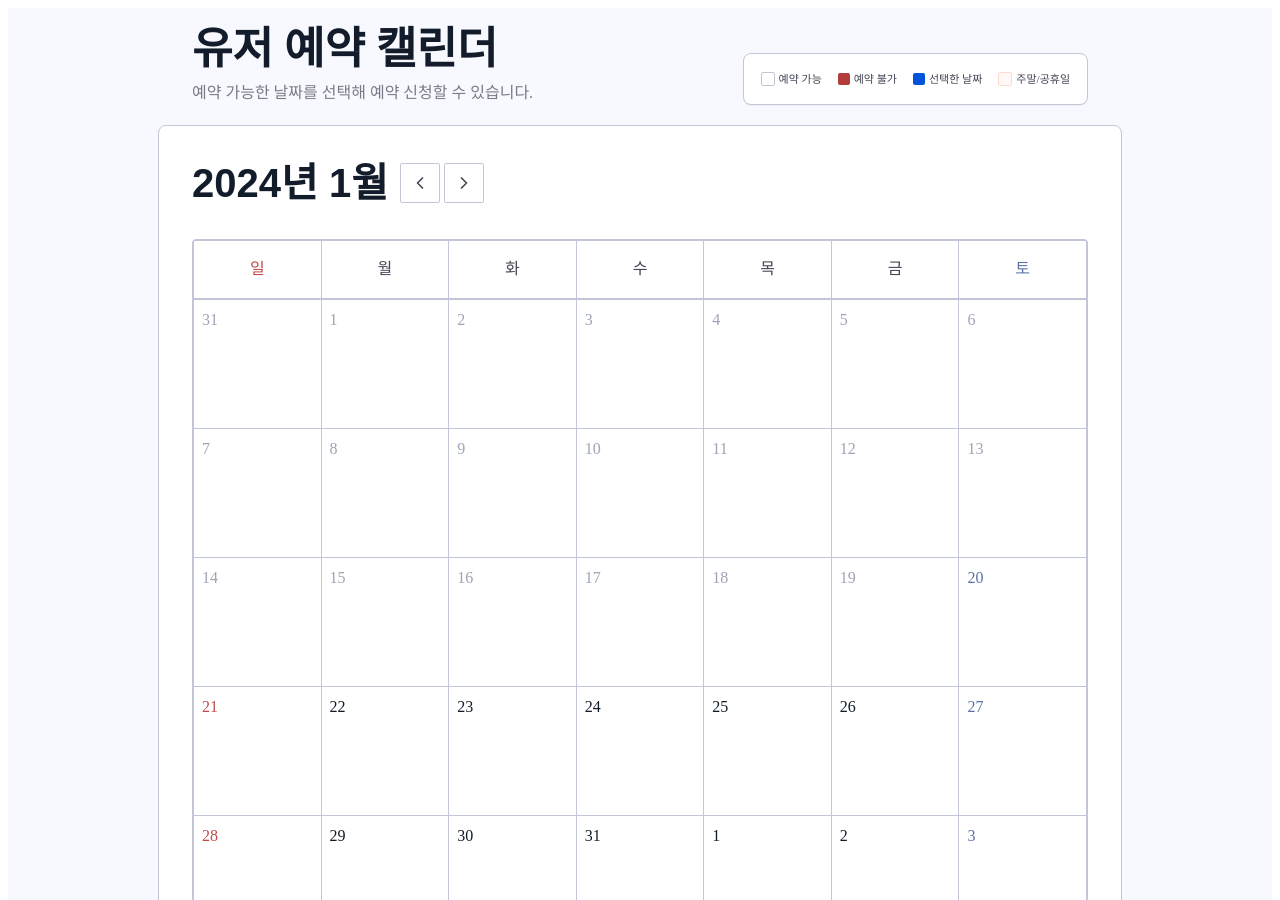
Test: CalendarUser › Reservation › 예약 확인 시 LocalStorage와 이벤트가 갱신되고 선택 상태가 초기화된다
This screenshot has width=1280, height=900.
Click the text "25" at (768, 751), box [704,687,831,815]
(page scrolled)
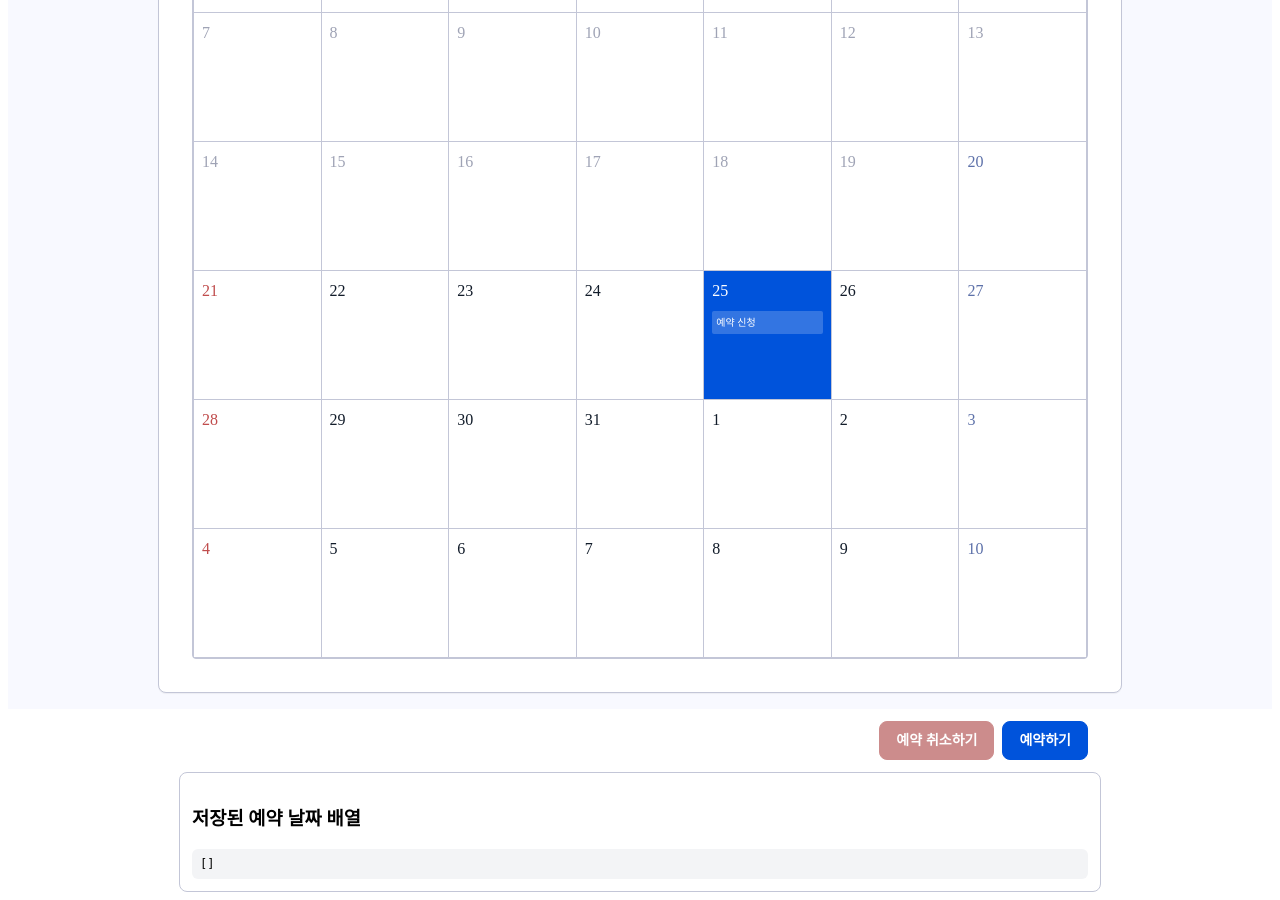
Click the button "예약하기" at (1045, 740), box [1002,721,1088,760]
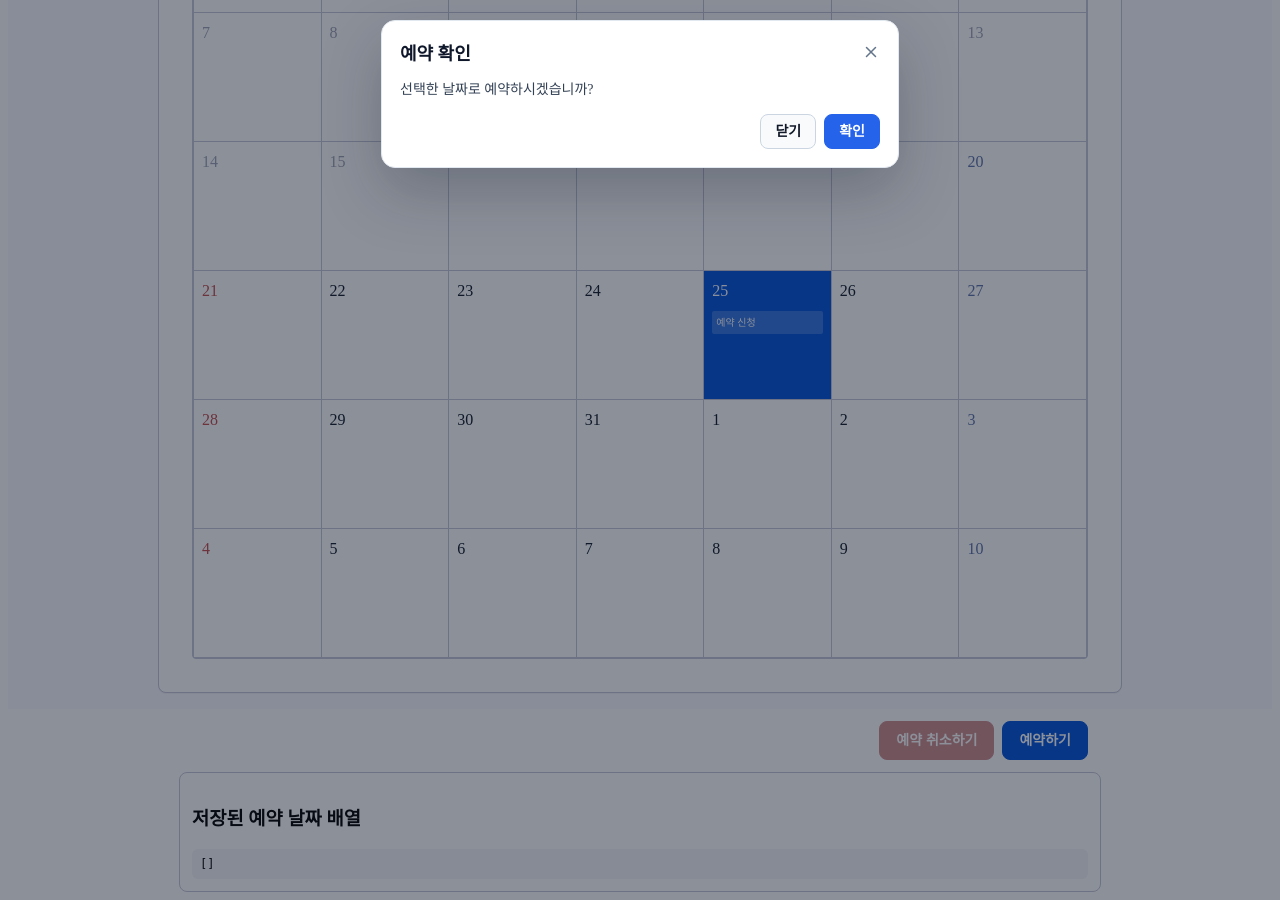
Click the button "확인" at (852, 131), box [824,114,880,149]
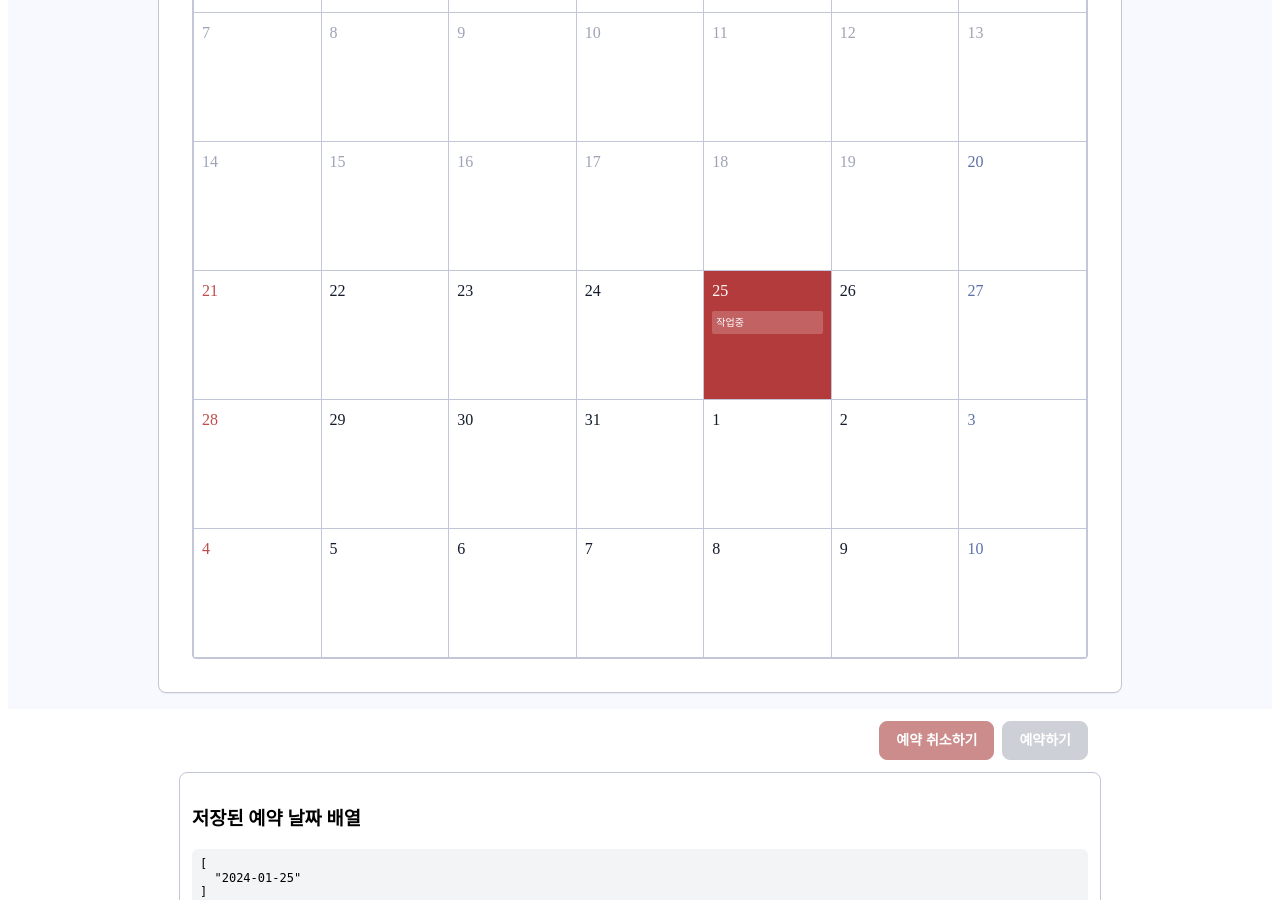
Expected: the button "예약하기" is disabled, [1002,721,1088,760]
Expected: the text "작업중" is shown, [712,311,823,334]
